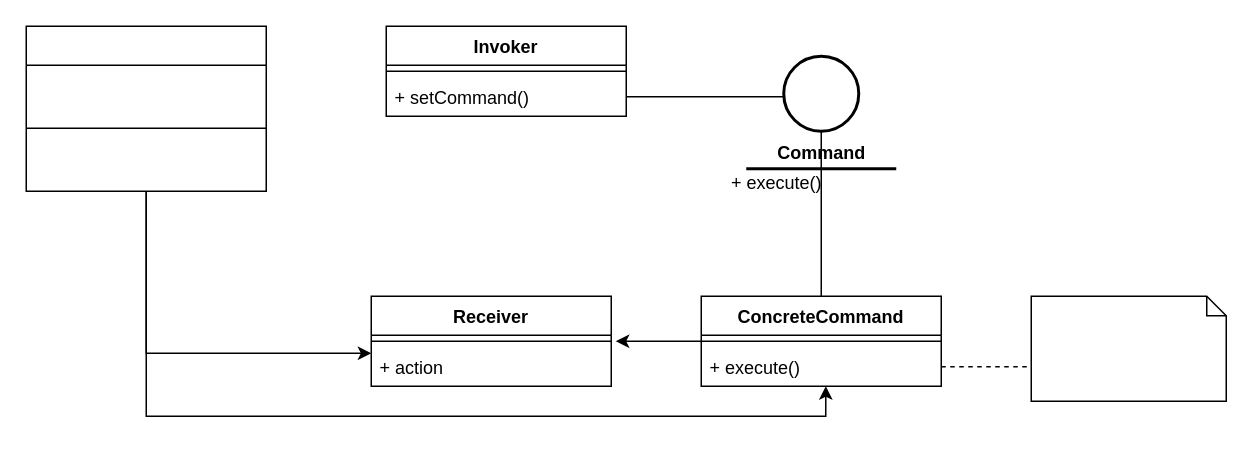
Image size: 1253x455. Some labels were removed from this diagram. The shapes that lost their labels are listed below. From the top down, each one's centre as x and y in pixels, then its label:
the point at 145,108: Client
the point at 1128,348: public void execute() { receiver.action() }
